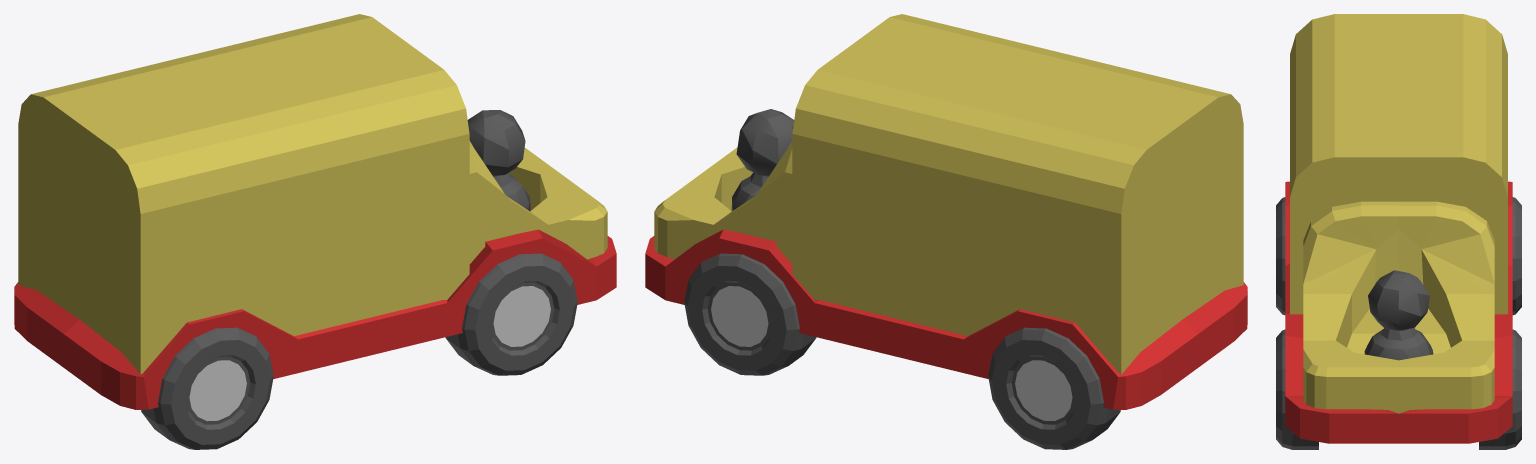
Rendered from BasicTruck.fbx.
The picture shows the model from 3 angles, left to right: view 1: azimuth 30°, elevation 25°; view 2: azimuth 150°, elevation 25°; view 3: azimuth 270°, elevation 25°; orthographic projection. The views are drawn at different scales.
Visible parts, largest first — view 1: Back, Rim, Circle.001, Seat, peggy; view 2: Back, Rim, Circle.001, Seat, peggy; view 3: Back, Seat, Rim, Circle.001, peggy.
Part boxes in pixels (box(x1,y1,x2,y2)): Back: box(18, 14, 469, 374); Rim: box(14, 229, 616, 409); Circle.001: box(141, 253, 577, 449); Seat: box(469, 141, 607, 264); peggy: box(467, 110, 530, 211); Back: box(792, 14, 1243, 374); Rim: box(645, 229, 1247, 409); Circle.001: box(684, 253, 1120, 449); Seat: box(654, 141, 792, 264); peggy: box(731, 109, 794, 211); Back: box(1290, 14, 1507, 314); Seat: box(1303, 201, 1494, 413); Rim: box(1285, 181, 1512, 443); Circle.001: box(1276, 197, 1521, 449); peggy: box(1364, 270, 1433, 360).
Size of the model in its own units: 714 by 400 by 334.
